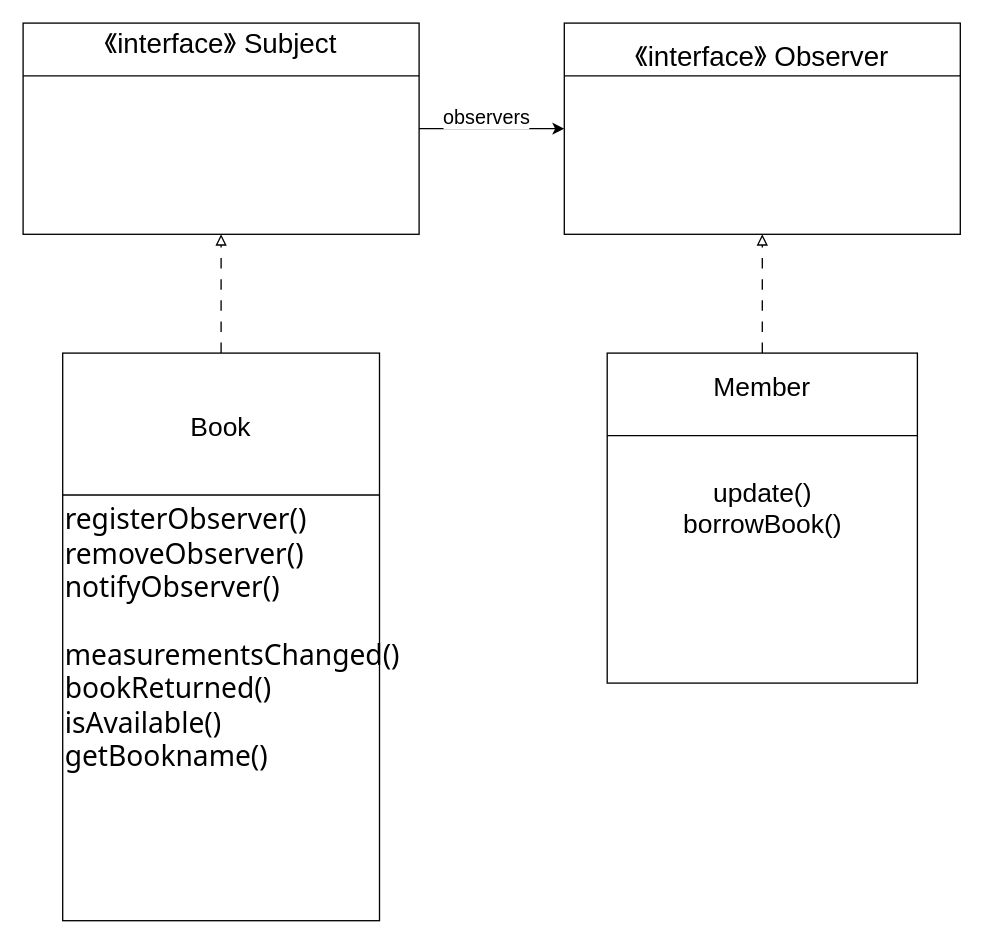
This 985x944 diagram has some shape labels left out. Each missing label, with the box of its shape:
registerObserver() removeObserver() notifyObserver(): (22, 22, 419, 234)
update(): (563, 22, 960, 234)
